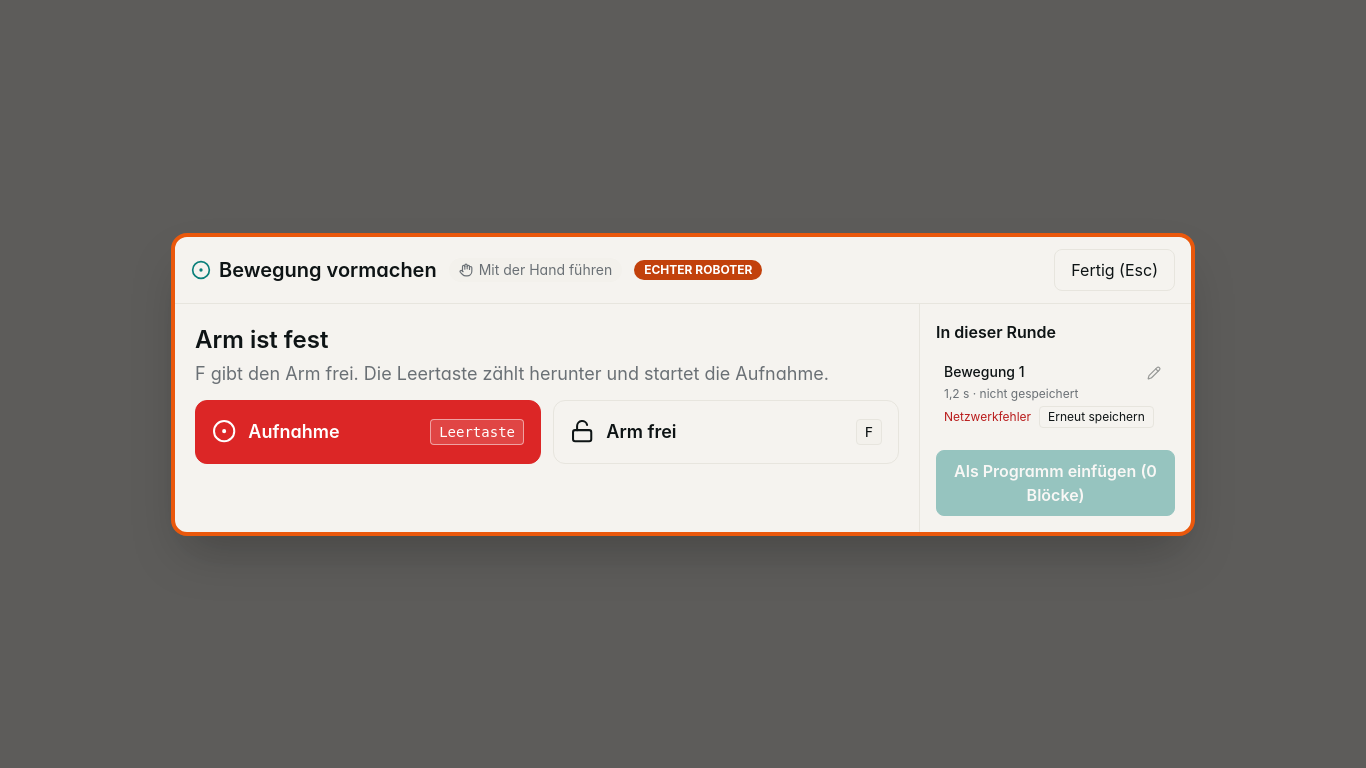
Scenario: TeachOverlay — keeping a take uploads it (and D5 saves the workflow first) › an upload failure shows „nicht gespeichert" with the reason, and „Erneut speichern" retries
Expected: the text "Netzwerkfehler" is shown, [944,408,1031,424]
Click the button "Erneut speichern" at (1096, 416), box [1039,406,1154,428]
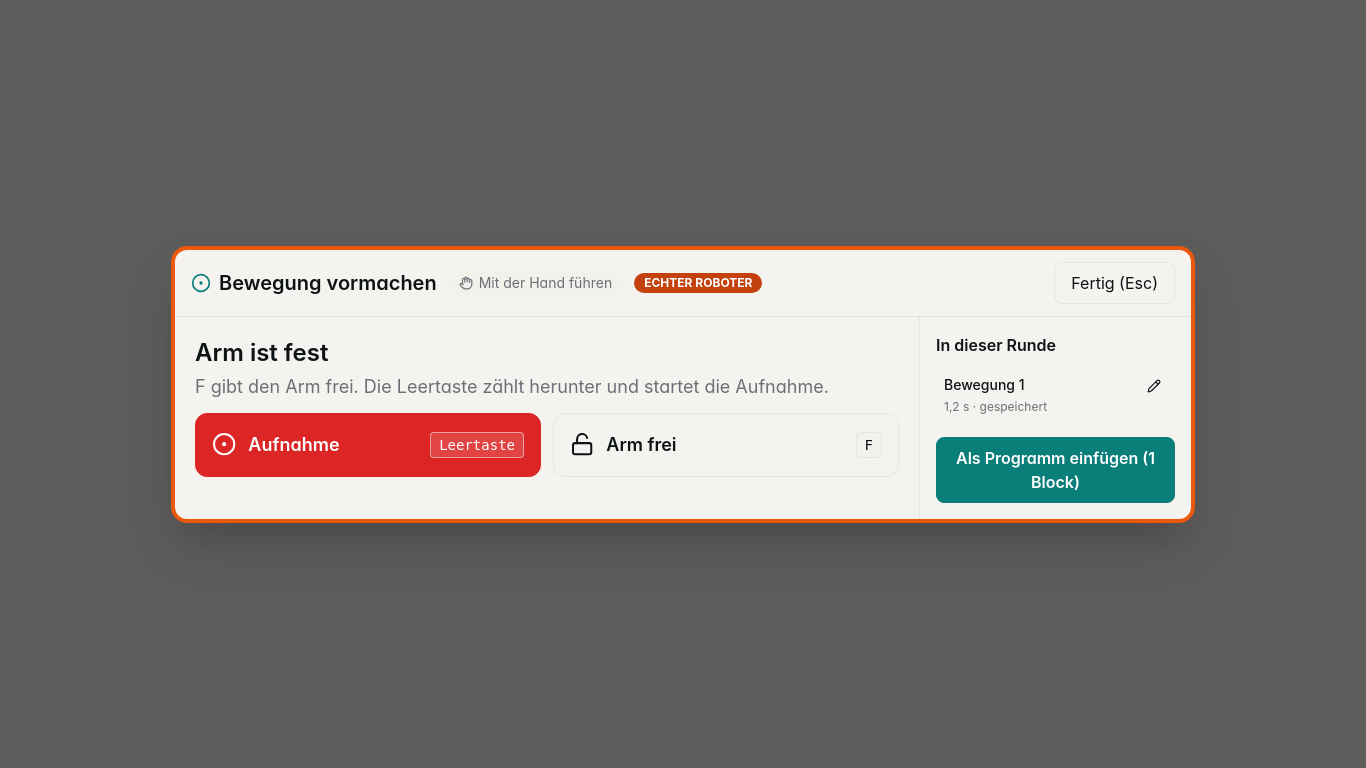
Expected: the text "Bewegung 1" is shown, [944,376,1024,392]
Expected: the button "Erneut speichern" is gone
